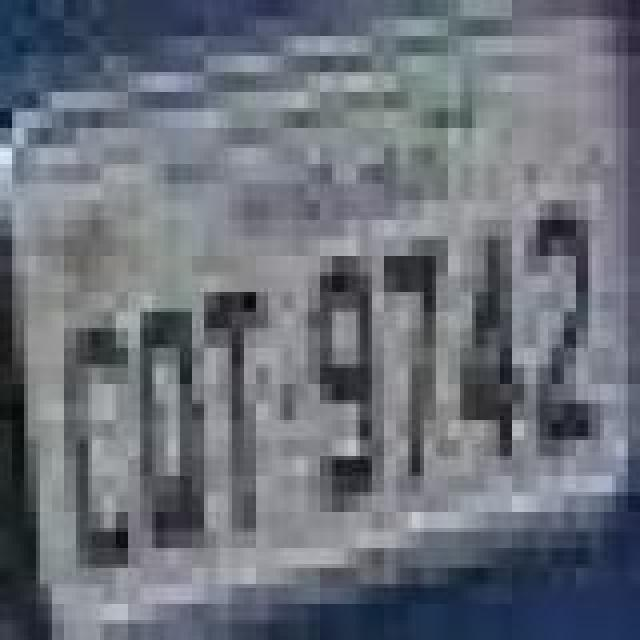2: (518, 200, 610, 456)
4: (454, 218, 530, 454)
7: (384, 240, 448, 496)
9: (306, 256, 382, 512)
C: (58, 320, 134, 576)
D: (134, 294, 210, 570)
T: (198, 284, 274, 540)
